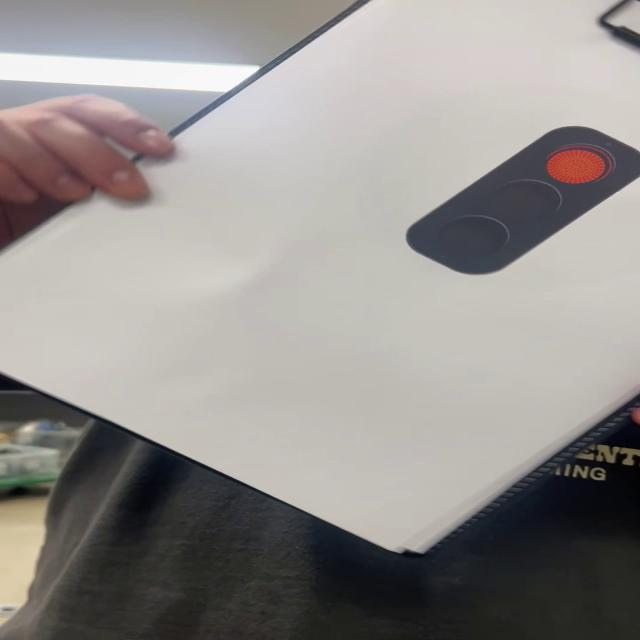red: (399, 127, 640, 279)
